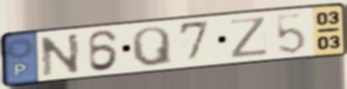5: (274, 11, 310, 55)
6: (86, 27, 119, 73)
7: (177, 19, 214, 64)
N: (38, 31, 83, 79)
Q: (129, 25, 176, 68)
Z: (228, 15, 272, 60)
